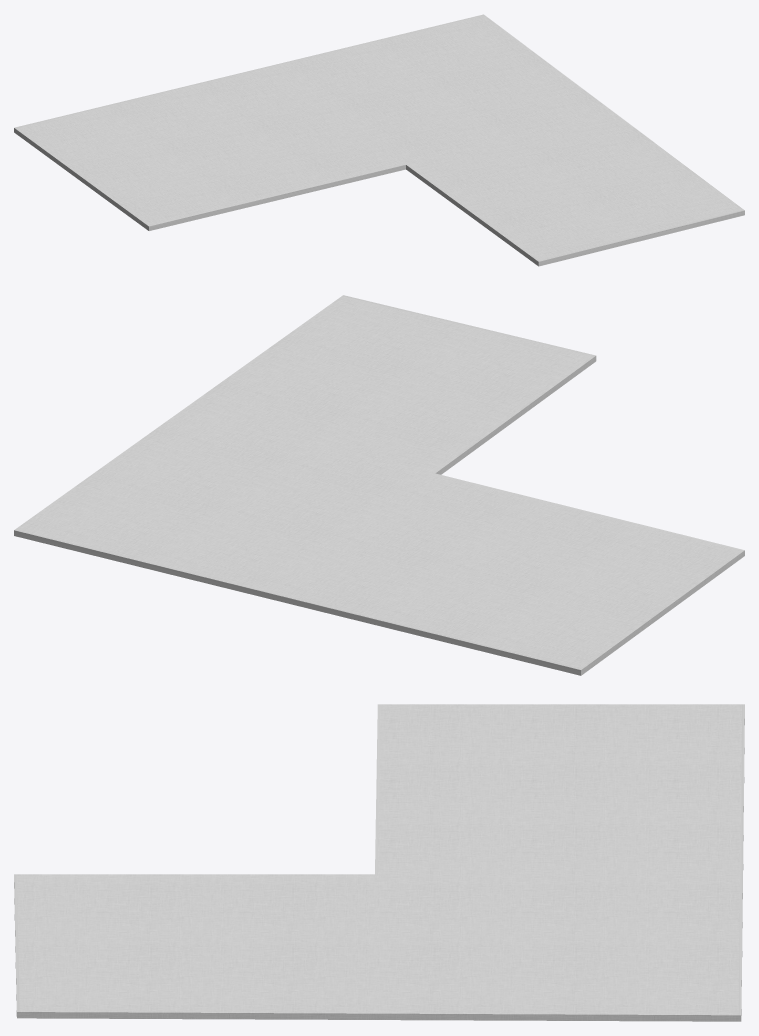
3 renders of one model, top to bottom at view 1: azimuth 30°, elevation 25°; view 2: azimuth 150°, elevation 25°; view 3: azimuth 270°, elevation 25°, orthographic. The views are drawn at different scales.
Parts seen in each view (by area): view 1: Ceiling#0_1; view 2: Ceiling#0_1; view 3: Ceiling#0_1.
Part boxes in pixels (x1=…): Ceiling#0_1: x1=14, y1=14, x2=744, y2=266; Ceiling#0_1: x1=14, y1=295, x2=744, y2=675; Ceiling#0_1: x1=14, y1=704, x2=744, y2=1021.
Bounding box in the file's own units: 5.2 × 0.05 × 5.16.
Materials: 1 (1 with a texture image).
